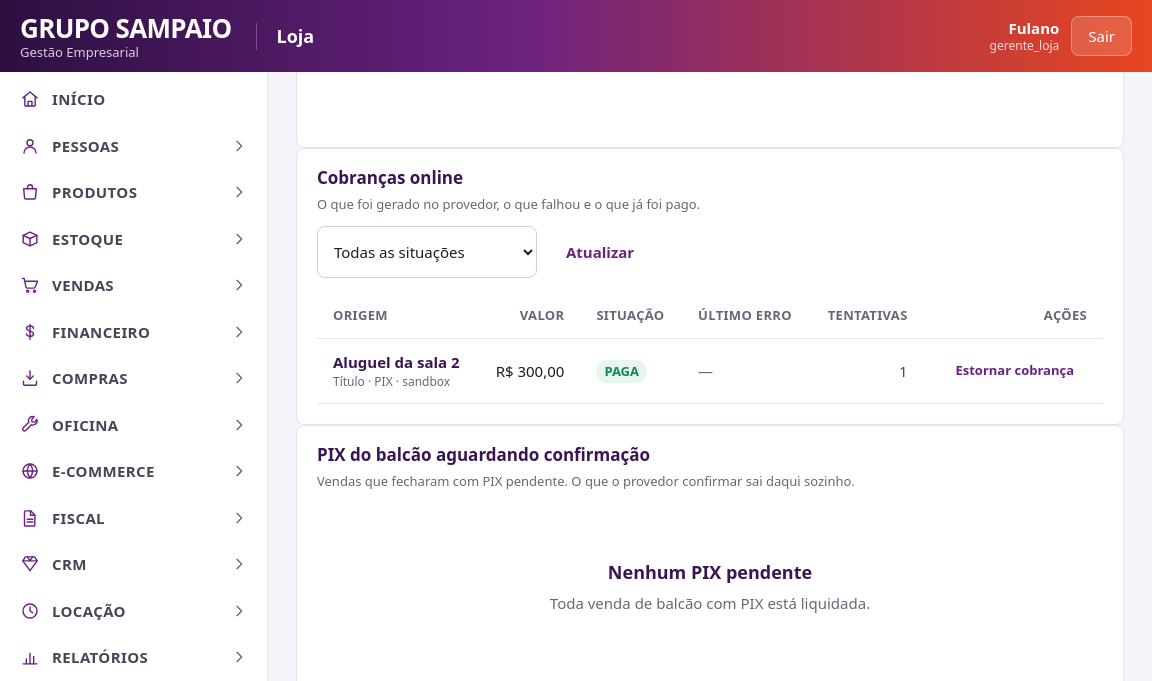
Test: GAP-PRD-092 — estornar a cobrança paga do título pela tela › o gerente estorna: a confirmação e o motivo viajam no corpo, e a resposta vem inteira
(page scrolled)
Click the button "Estornar cobrança".
click(1015, 371)  # box [942,354,1087,388]
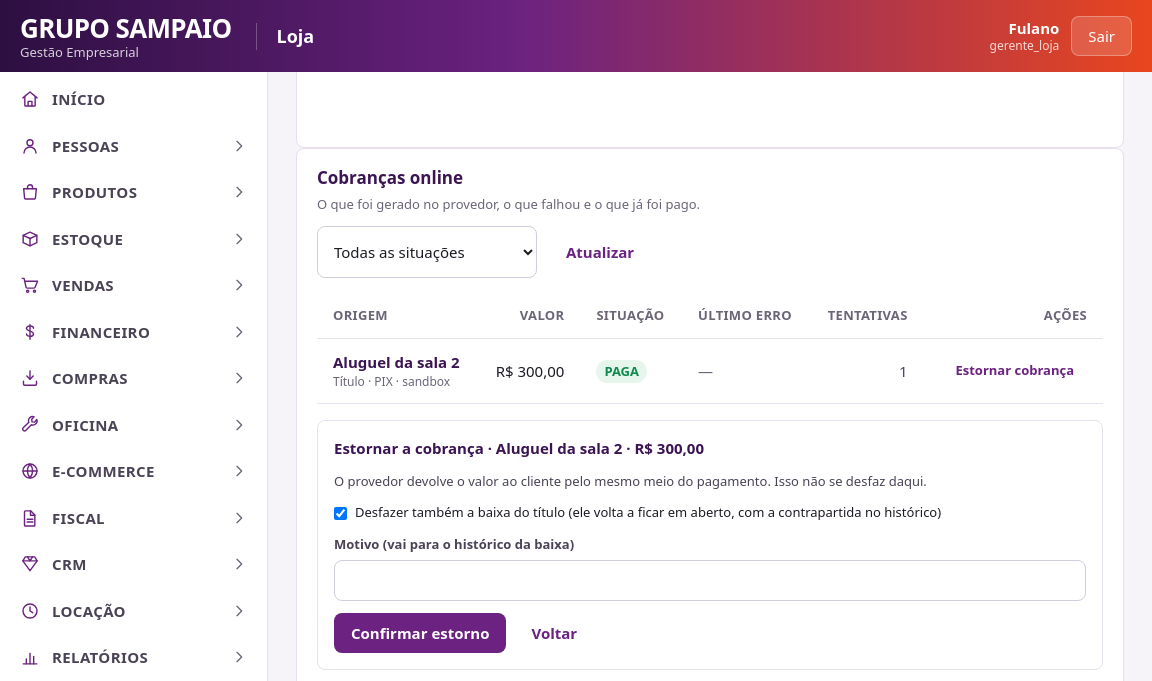
Expected: the checkbox is checked, [334,507,347,520]
Type "cliente desistiu" into the field.
click(710, 581); type("cliente desistiu")  # box [334,560,1086,601]
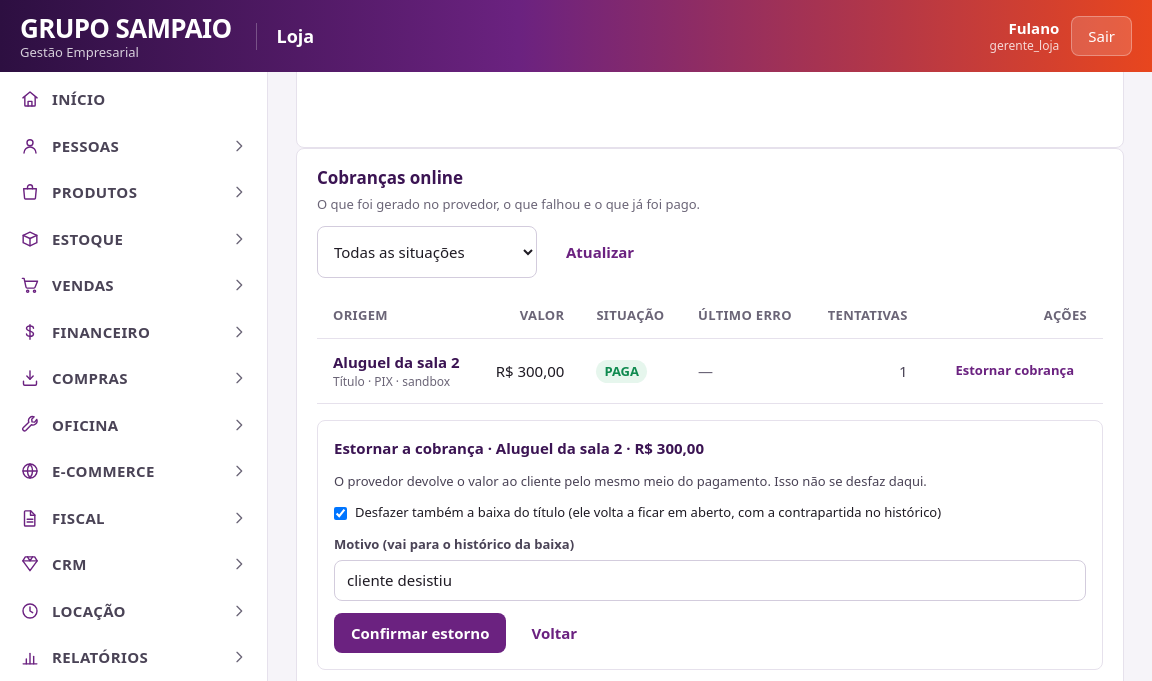
Click the button "Confirmar estorno".
click(420, 633)  # box [334,613,506,653]
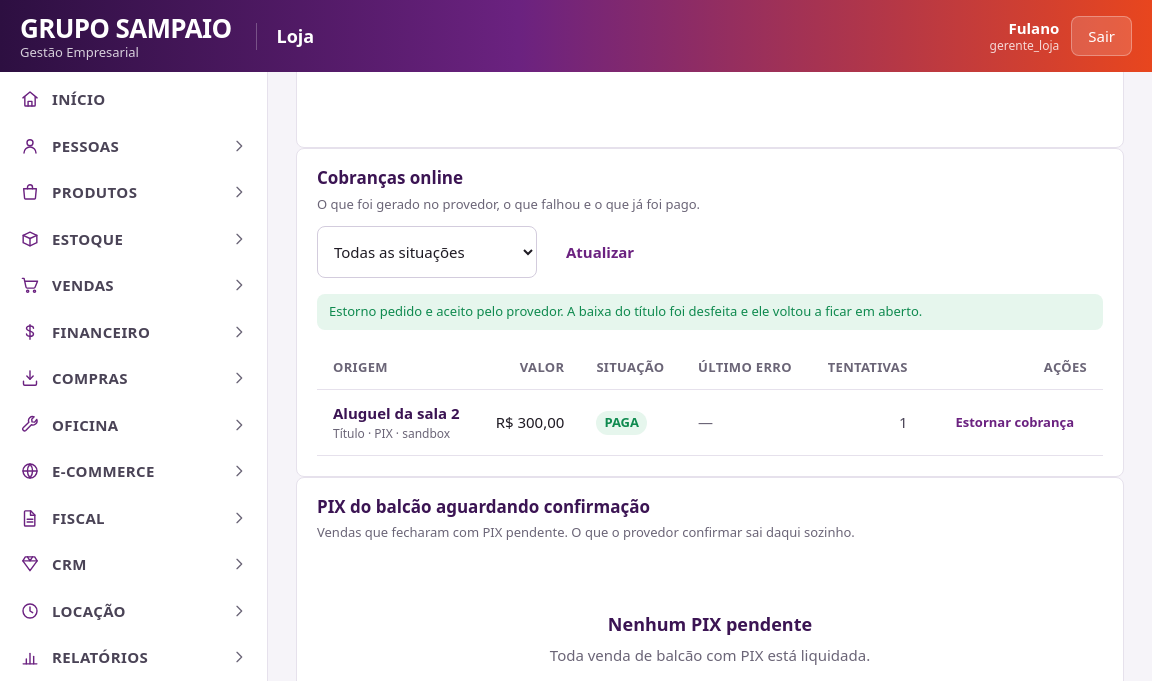
Expected: the text "A baixa do título foi desfeita" is shown, [329,302,922,320]
